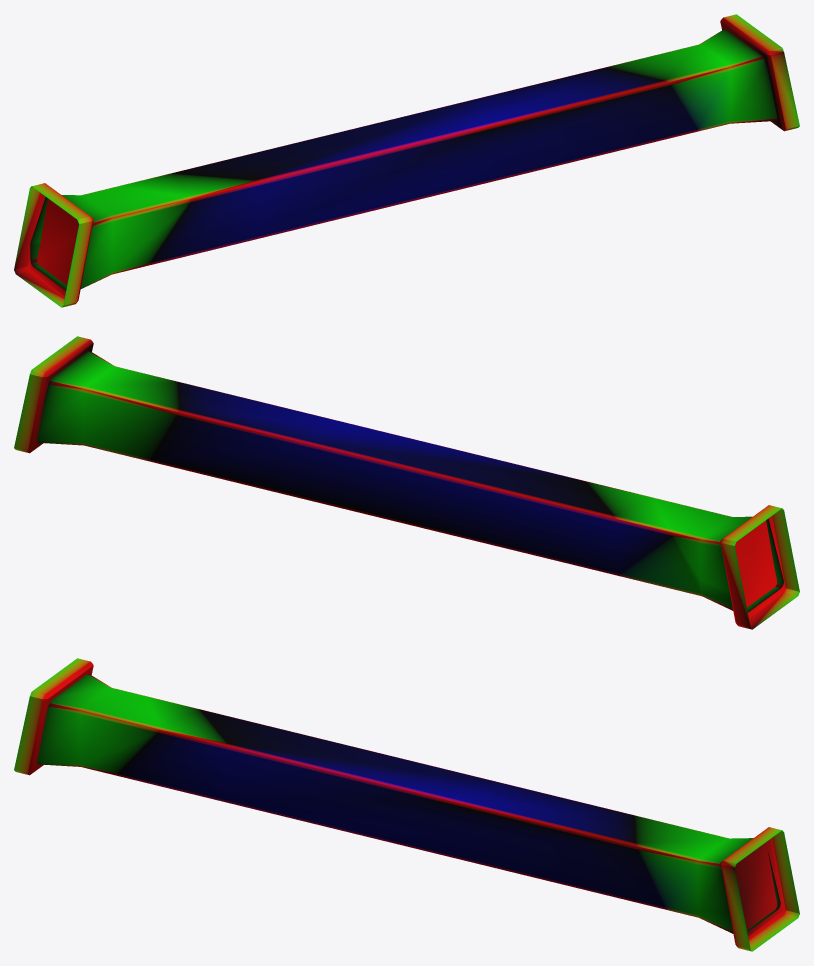
The model's file is CeilColumnCross.fbx.
The picture shows the model from 3 angles, top to bottom: view 1: azimuth 30°, elevation 25°; view 2: azimuth 150°, elevation 25°; view 3: azimuth 330°, elevation 25°; orthographic projection.
Parts seen in each view (by area): view 1: CeilColumnCross; view 2: CeilColumnCross; view 3: CeilColumnCross.
Boxes of the visible parts, left/top/right/bottom form: CeilColumnCross: left=14, top=14, right=799, bottom=307; CeilColumnCross: left=14, top=336, right=799, bottom=629; CeilColumnCross: left=14, top=658, right=799, bottom=951.
Bounding box in the file's own units: 734 × 80 × 85.
